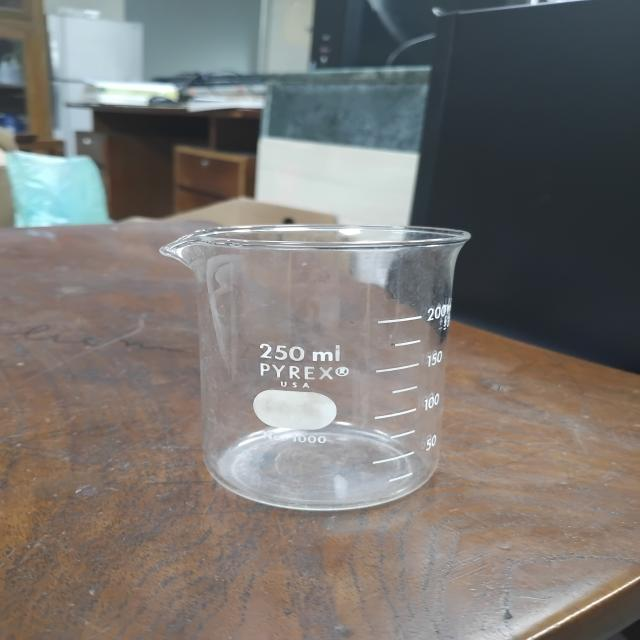Beaker: (132, 188, 497, 526)
